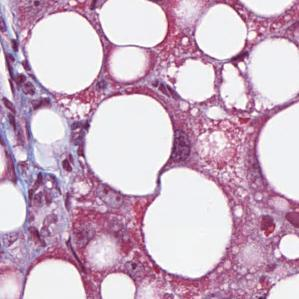inflammation: (25, 169, 65, 207)
